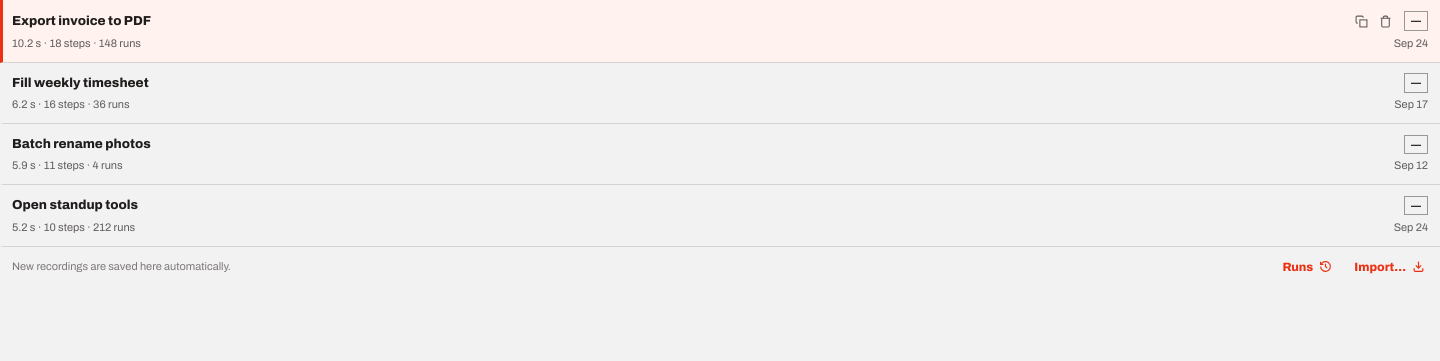
Library tab › Import… asks for files and imports them
Click the button "Import…" at (1390, 267), box [1347,255,1432,279]
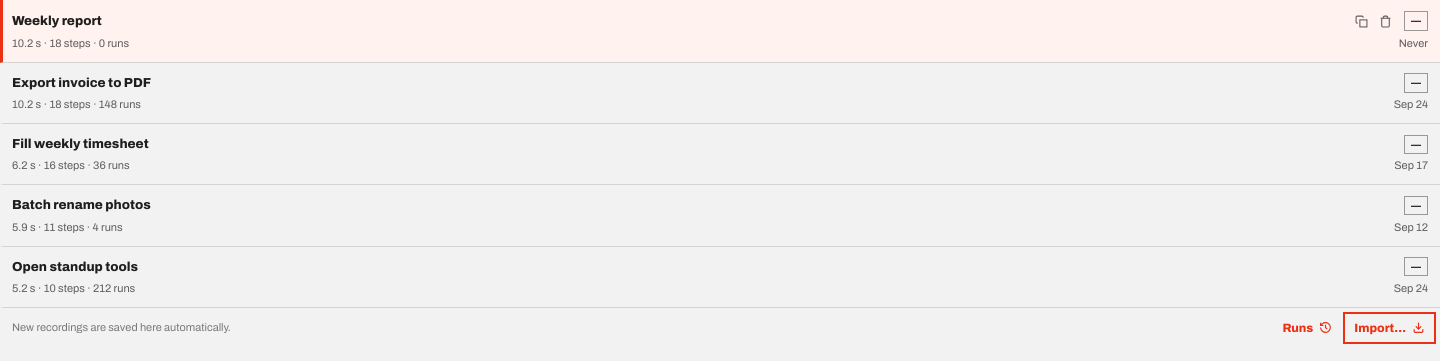
Result: the button "Weekly report — 10.2 s · 18 steps · 0 runs Never" is shown at [0,0,1439,63]
